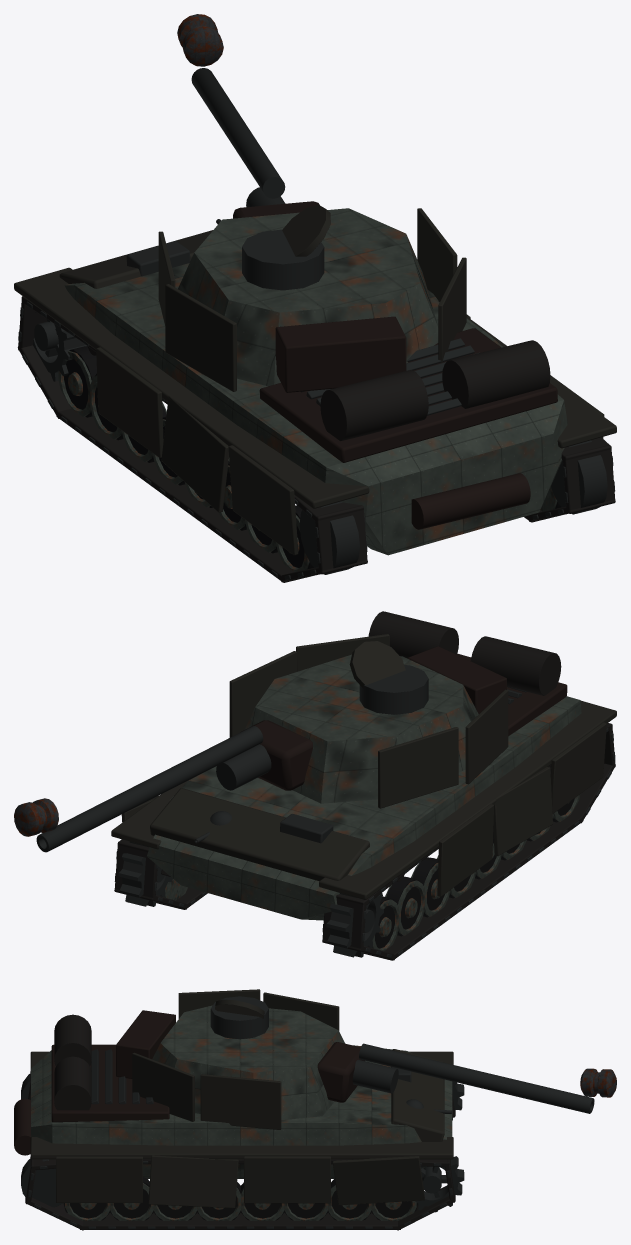
Rendered from ruined_tank.glb.
The picture shows the model from 3 angles, top to bottom: view 1: azimuth 30°, elevation 25°; view 2: azimuth 150°, elevation 25°; view 3: azimuth 270°, elevation 25°; orthographic projection. The views are drawn at different scales.
Visible parts, largest first — view 1: RuinedTank; view 2: RuinedTank; view 3: RuinedTank.
Part boxes in pixels (left/top/right/bottom): RuinedTank: left=14, top=14, right=616, bottom=582; RuinedTank: left=14, top=611, right=616, bottom=960; RuinedTank: left=14, top=989, right=616, bottom=1230.
Size of the model in its own units: 3.1 by 2.35 by 7.06.
Materials: 5 (2 with a texture image).
